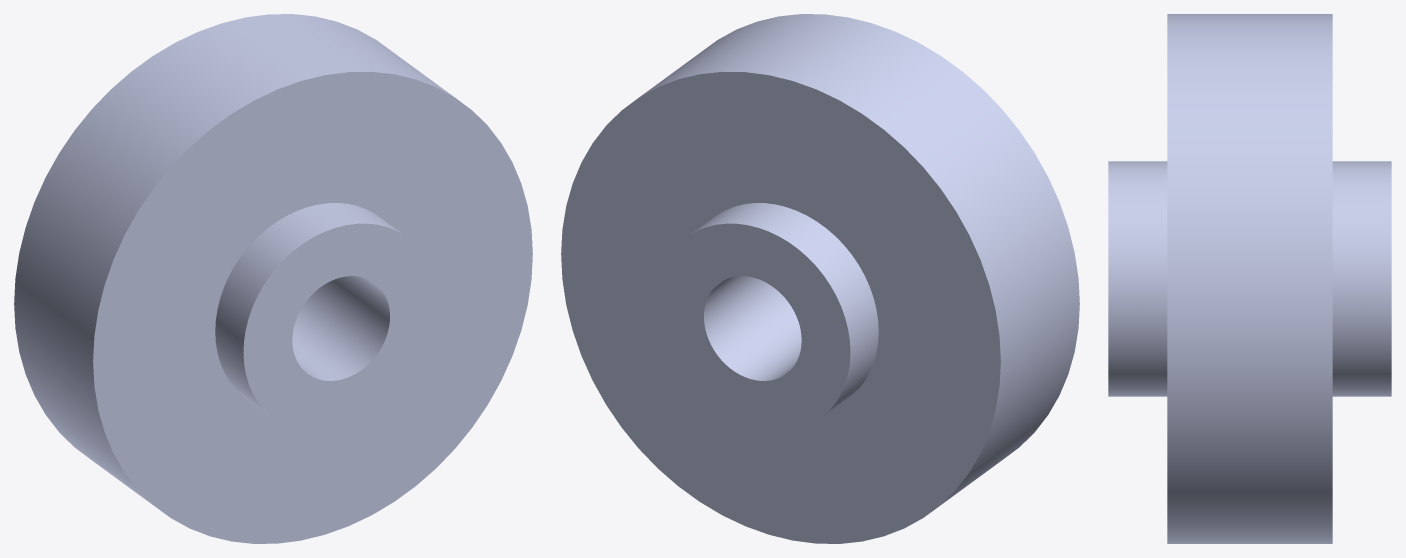
Rendered from Middle_Support_Wheel.obj.
The picture shows the model from 3 angles, left to right: view 1: azimuth 30°, elevation 25°; view 2: azimuth 150°, elevation 25°; view 3: azimuth 270°, elevation 25°; orthographic projection. The views are drawn at different scales.
Parts seen in each view (by area): view 1: mesh17451, mesh17450, mesh17453, mesh17452, mesh17454; view 2: mesh17457, mesh17450, mesh17455, mesh17456, mesh17454; view 3: mesh17450, mesh17452, mesh17456.
Boxes of the visible parts, x1,y1,x2,y2 form: mesh17451: [93, 71, 532, 543]; mesh17450: [14, 14, 453, 510]; mesh17453: [243, 223, 438, 433]; mesh17452: [215, 203, 402, 416]; mesh17454: [292, 276, 389, 380]; mesh17457: [561, 71, 1000, 543]; mesh17450: [640, 14, 1079, 510]; mesh17455: [655, 223, 850, 433]; mesh17456: [691, 203, 878, 416]; mesh17454: [704, 276, 801, 380]; mesh17450: [1167, 14, 1332, 543]; mesh17452: [1108, 161, 1167, 396]; mesh17456: [1332, 161, 1391, 396].
Size of the model in its own units: 0.0571 by 0.0571 by 0.0305.
